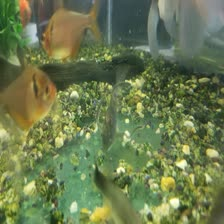Kiros: (88, 64, 142, 153)
Transparente: (0, 60, 58, 152), (36, 0, 110, 57)
